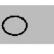no answer: (1, 14, 29, 39)
